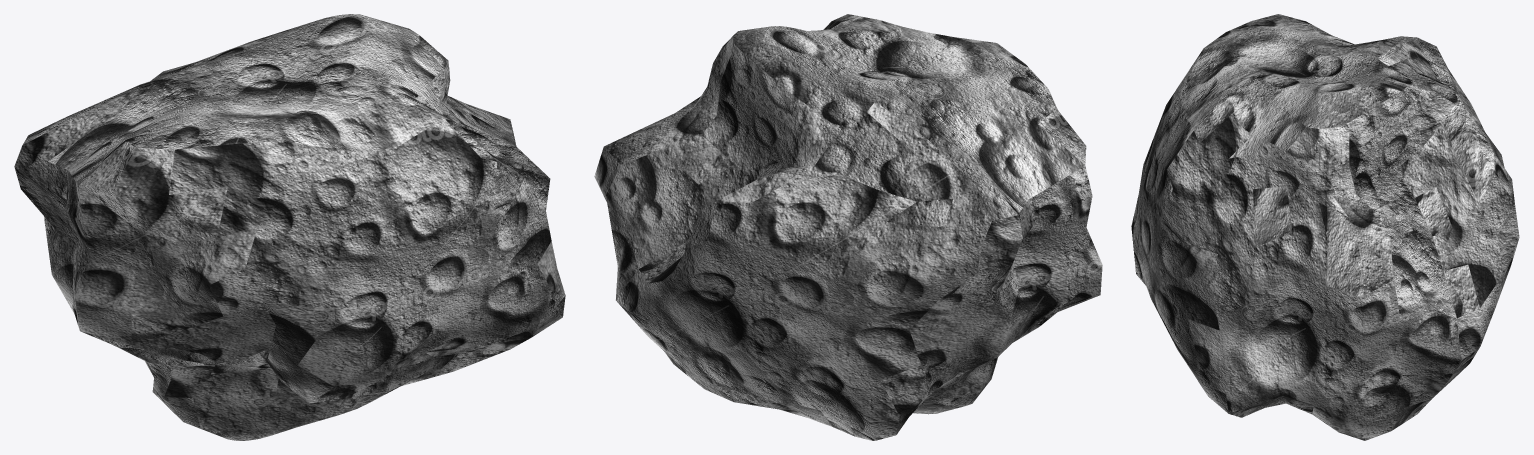
The model's file is asteroide_5.FBX.
3 views of the same model, side by side, from view 1: azimuth 30°, elevation 25°; view 2: azimuth 150°, elevation 25°; view 3: azimuth 270°, elevation 25° (orthographic). The views are drawn at different scales.
Visible parts, largest first — view 1: asteroide_1; view 2: asteroide_1; view 3: asteroide_1.
Part boxes in pixels (bbox=[...]): asteroide_1: bbox=[14, 14, 565, 440]; asteroide_1: bbox=[594, 14, 1102, 440]; asteroide_1: bbox=[1131, 14, 1519, 440].
Size of the model in its own units: 1330 by 971 by 1023.
1 material, 1 textured.
